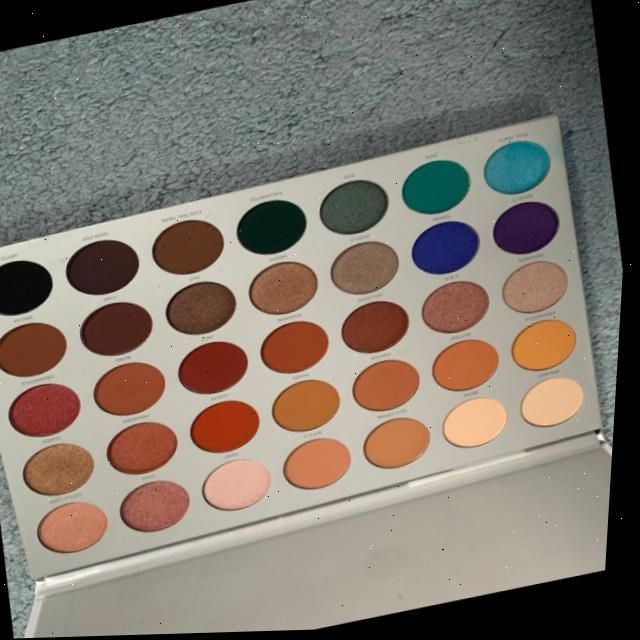eye shade: (0, 129, 633, 565)
